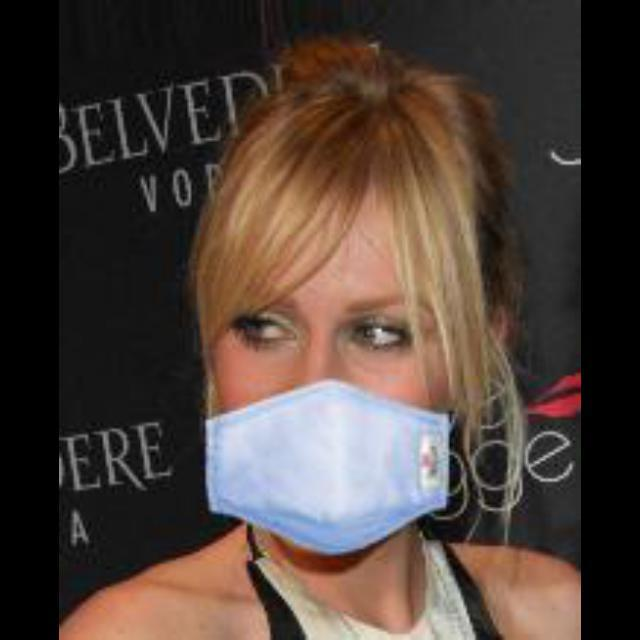suspicion: (184, 85, 466, 545)
